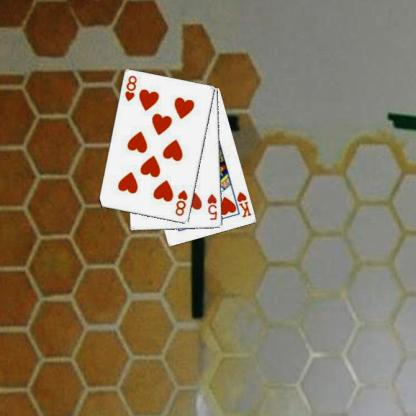5H: (205, 191, 218, 222)
8H: (172, 188, 188, 218), (122, 74, 138, 102)
KH: (234, 190, 253, 218)
